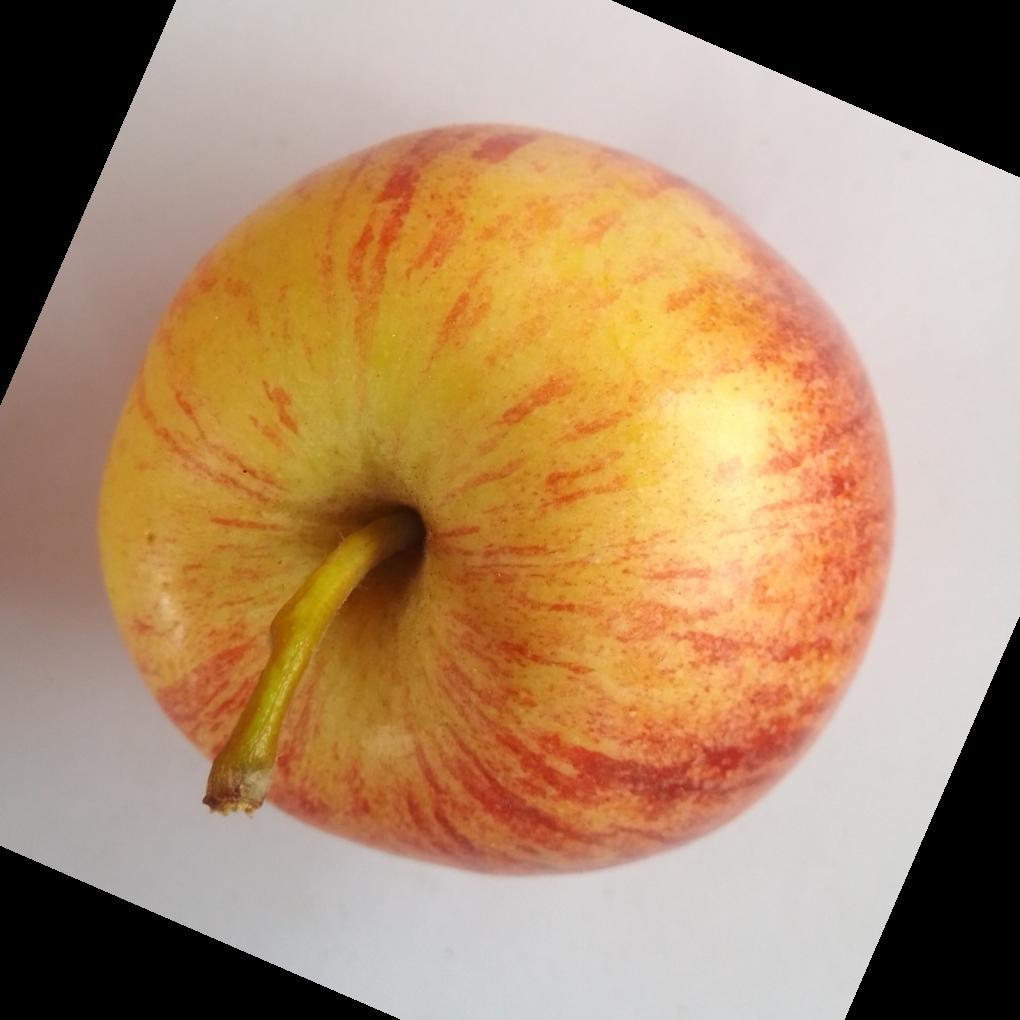FreshGuava: (94, 123, 896, 882)
